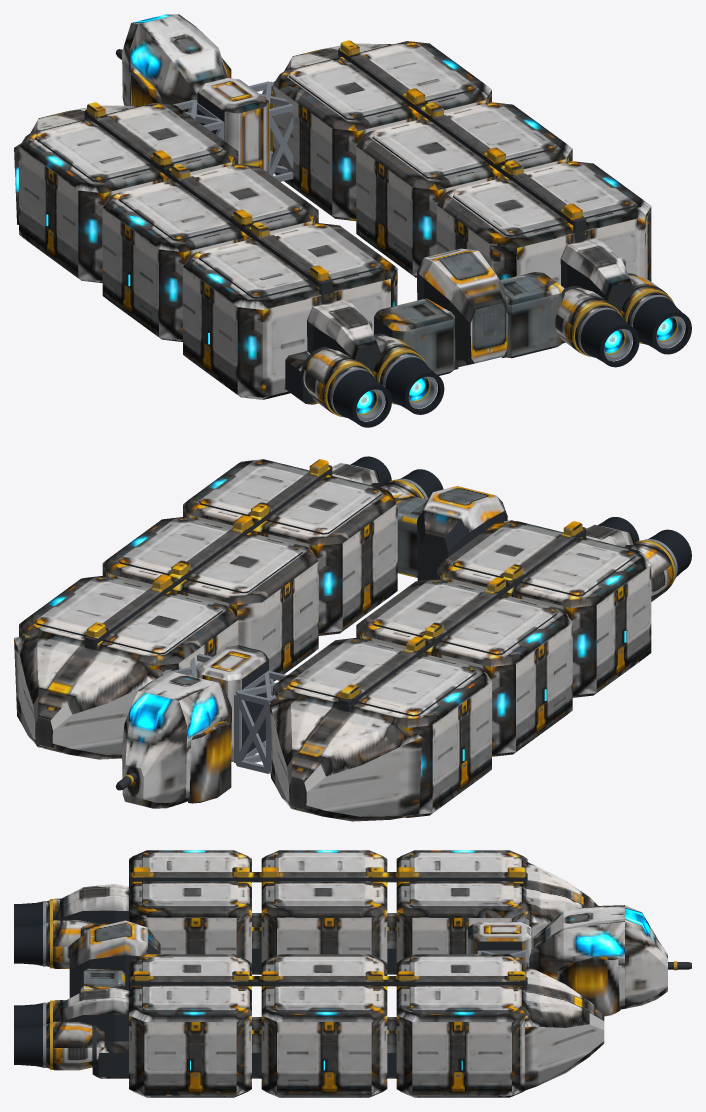
Rendered from large-freighter.glb.
3 views of the same model, one above another, from view 1: azimuth 30°, elevation 25°; view 2: azimuth 150°, elevation 25°; view 3: azimuth 270°, elevation 25° (orthographic). The views are drawn at different scales.
Parts seen in each view (by area): view 1: Reference artwork | titanium, brass, panels and canopy, Structural frames | gunmetal, Structural rails | dark alloy, Machined titanium edges, Warm brass collars, Ventral armor | dedicated bottom-view reference; view 2: Reference artwork | titanium, brass, panels and canopy, Structural frames | gunmetal, Machined titanium edges, Structural rails | dark alloy, Ventral armor | dedicated bottom-view reference, Warm brass collars; view 3: Reference artwork | titanium, brass, panels and canopy, Structural frames | gunmetal, Structural rails | dark alloy, Ventral armor | dedicated bottom-view reference, Warm brass collars, Machined titanium edges.
Boxes of the visible parts, x1,y1,x2,y2 form: Reference artwork | titanium, brass, panels and canopy: (14,14,676,413); Structural frames | gunmetal: (35,48,638,402); Structural rails | dark alloy: (46,211,691,427); Machined titanium edges: (172,81,685,421); Warm brass collars: (87,44,677,417); Ventral armor | dedicated bottom-view reference: (23,111,632,414); Reference artwork | titanium, brass, panels and canopy: (14,459,674,816); Structural frames | gunmetal: (35,465,635,790); Machined titanium edges: (161,478,677,773); Structural rails | dark alloy: (351,456,691,763); Ventral armor | dedicated bottom-view reference: (28,474,671,821); Warm brass collars: (87,463,675,785); Reference artwork | titanium, brass, panels and canopy: (46,850,667,1095); Structural frames | gunmetal: (60,872,691,1076); Structural rails | dark alloy: (14,901,465,1071); Ventral armor | dedicated bottom-view reference: (46,881,667,1097); Warm brass collars: (50,871,677,1069); Machined titanium edges: (43,901,529,1067).
Bounding box in the file's own units: 9.41 × 2.9 × 15.75.
7 materials, 2 textured.
